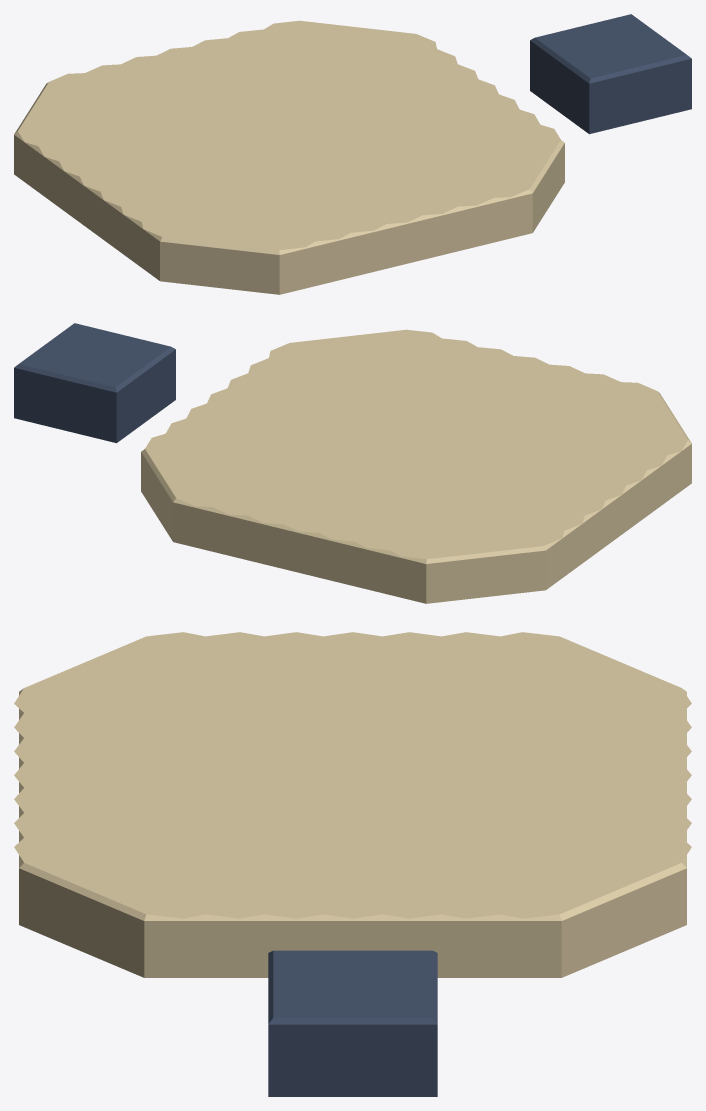
The model's file is mahsulot.glb.
3 renders of one model, top to bottom at view 1: azimuth 30°, elevation 25°; view 2: azimuth 150°, elevation 25°; view 3: azimuth 270°, elevation 25°, orthographic. The views are drawn at different scales.
Parts seen in each view (by area): view 1: mahsulot_A, mahsulot_B; view 2: mahsulot_A, mahsulot_B; view 3: mahsulot_A, mahsulot_B.
Boxes of the visible parts, x1=… form: mahsulot_A: x1=14, y1=20, x2=564, y2=294; mahsulot_B: x1=530, y1=14, x2=691, y2=134; mahsulot_A: x1=141, y1=329, x2=691, y2=603; mahsulot_B: x1=14, y1=323, x2=175, y2=443; mahsulot_A: x1=14, y1=632, x2=691, y2=977; mahsulot_B: x1=268, y1=950, x2=437, y2=1096.
Bounding box in the file's own units: 0.2815 × 0.025 × 0.2.
